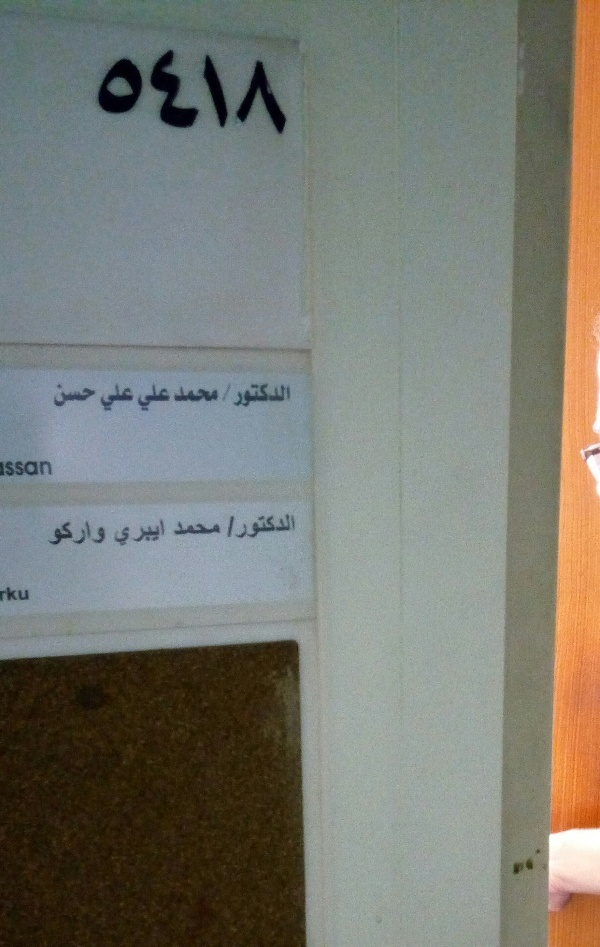text: (113, 48, 128, 140), (129, 48, 144, 140), (145, 48, 160, 140), (161, 48, 176, 140), (177, 48, 192, 140), (193, 48, 208, 140), (209, 48, 224, 140), (225, 48, 240, 140), (241, 48, 256, 140), (257, 48, 272, 140), (273, 48, 288, 140), (99, 48, 112, 140), (113, 383, 128, 413), (145, 384, 160, 413), (129, 518, 144, 547), (145, 518, 160, 547), (257, 514, 272, 540), (273, 514, 288, 540), (65, 520, 80, 546), (81, 520, 96, 546), (241, 384, 256, 409), (257, 384, 272, 409), (273, 384, 288, 409), (65, 383, 80, 407), (81, 383, 96, 407), (116, 518, 128, 547), (243, 514, 256, 540), (101, 383, 112, 413), (52, 520, 64, 546), (228, 515, 240, 540), (161, 384, 170, 413), (54, 383, 64, 407), (17, 461, 32, 477), (33, 461, 48, 477), (97, 520, 106, 546), (177, 388, 192, 403), (193, 388, 208, 403), (177, 521, 192, 536), (193, 521, 208, 536), (137, 384, 144, 413), (2, 588, 16, 602), (17, 588, 31, 602), (289, 48, 291, 140), (209, 521, 221, 536), (129, 383, 135, 413), (5, 461, 16, 477), (289, 514, 295, 540), (209, 388, 219, 403), (161, 518, 166, 547), (225, 383, 232, 402), (289, 384, 292, 409), (49, 461, 53, 477), (221, 383, 224, 402), (174, 521, 176, 536), (175, 388, 176, 403)
